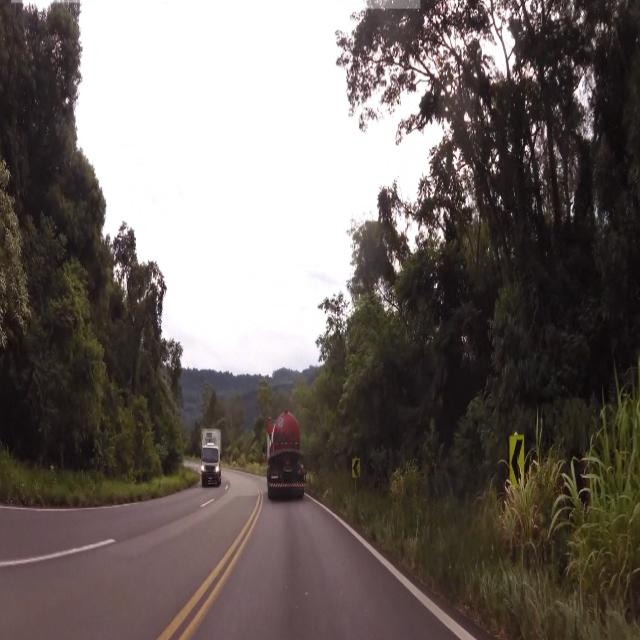Del: (507, 430, 526, 484)
